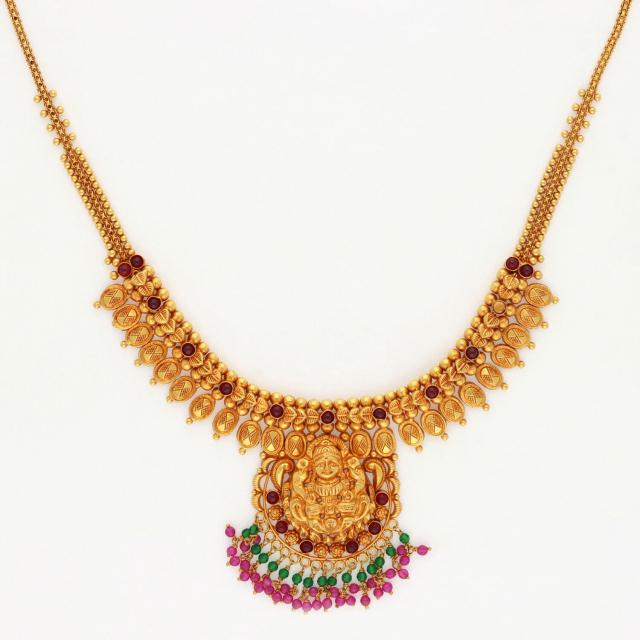missing gem: (493, 301, 505, 314)
